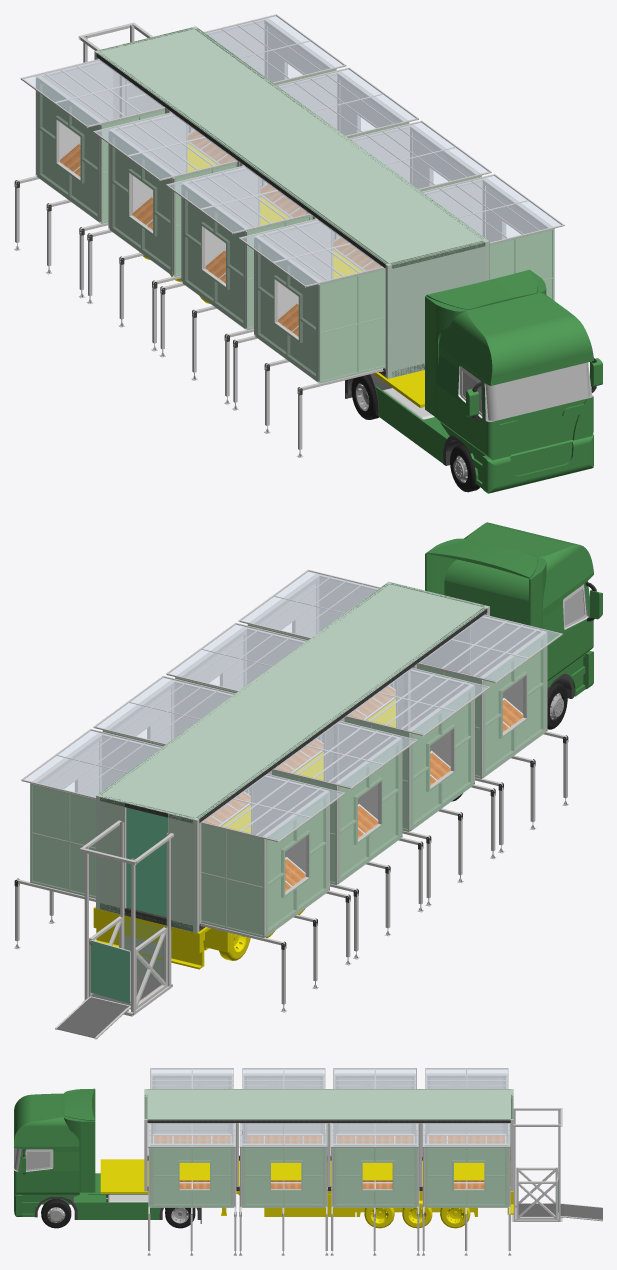
Rendered from SAPS_MOVIL.glb.
3 renders of one model, top to bottom at view 1: azimuth 30°, elevation 25°; view 2: azimuth 150°, elevation 25°; view 3: azimuth 270°, elevation 25°, orthographic. The views are drawn at different scales.
Visible parts, largest first — view 1: Solid1 (×43); view 2: Solid1 (×45), Solid2 (×5); view 3: Solid1 (×37), Solid2 (×4).
Boxes of the visible parts, x1,y1,x2,y2 form: Solid1 (×43): (23, 16, 602, 493); Solid1 (×45): (24, 522, 602, 984); Solid2 (×5): (56, 808, 167, 1038); Solid1 (×37): (14, 1068, 513, 1228); Solid2 (×4): (513, 1123, 602, 1221).
Size of the model in its own units: 6.47 by 4.07 by 19.45.
Materials: 22 (2 with a texture image).
